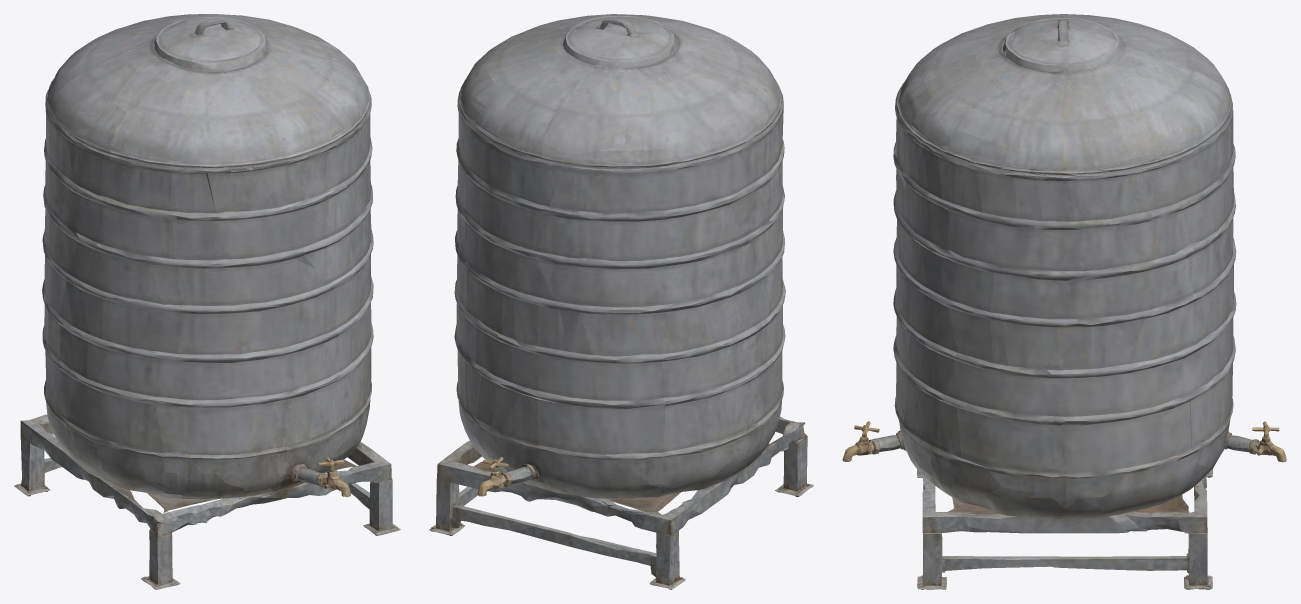
Rendered from w3tank.glb.
3 views of the same model, side by side, from view 1: azimuth 30°, elevation 25°; view 2: azimuth 150°, elevation 25°; view 3: azimuth 270°, elevation 25° (orthographic). The views are drawn at different scales.
Visible parts, largest first — view 1: output_unwrapped; view 2: output_unwrapped; view 3: output_unwrapped.
Part boxes in pixels (left/top/right/bottom): output_unwrapped: left=14, top=14, right=400, bottom=589; output_unwrapped: left=429, top=14, right=813, bottom=589; output_unwrapped: left=842, top=14, right=1286, bottom=589.
Bounding box in the file's own units: 1.2 × 1.95 × 1.55.
1 material, 1 textured.
